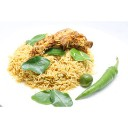briyani: (13, 30, 93, 89)
